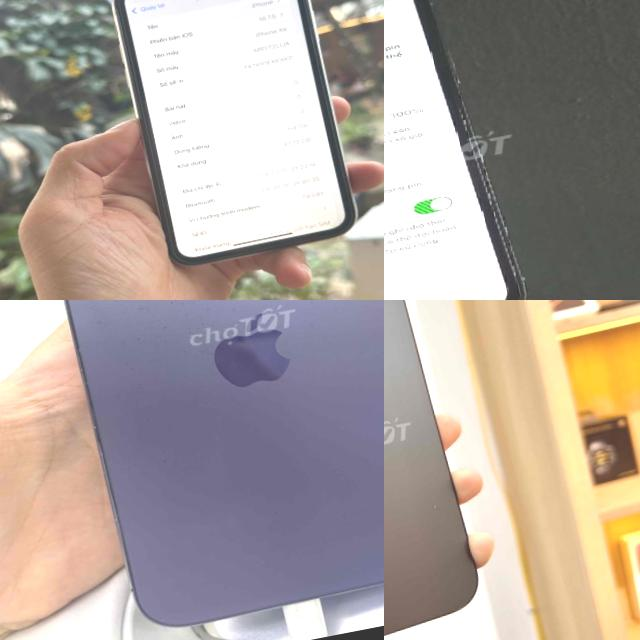gen_14: (17, 300, 384, 640)
gen_16: (384, 300, 477, 635)
gen_x_xs: (114, 0, 356, 265), (384, 0, 554, 300)
scratch: (131, 300, 207, 346), (294, 300, 335, 343), (420, 485, 458, 522), (126, 328, 152, 358), (158, 448, 188, 468)
